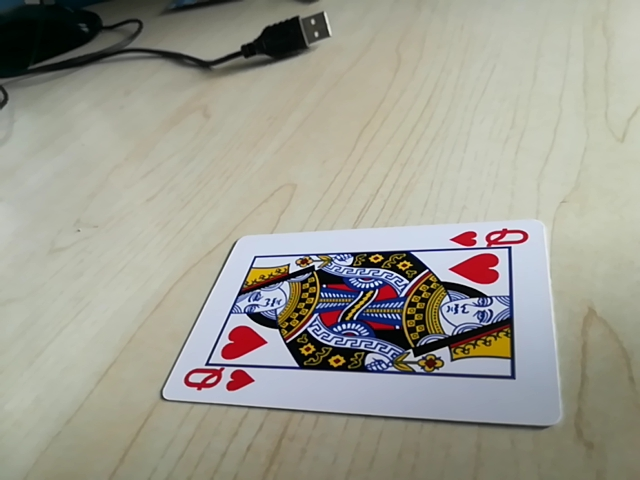hx q: (179, 365, 257, 398), (450, 225, 534, 254)
